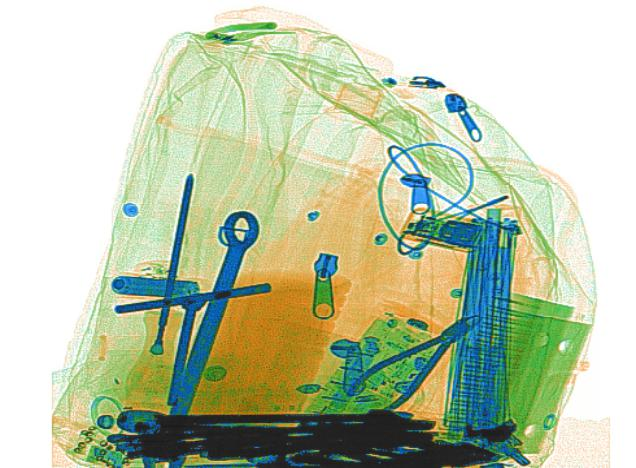battery: (113, 275, 201, 300)
